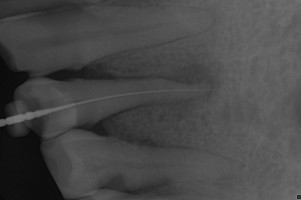Furcation Involvement: (139, 91, 213, 121), (160, 65, 219, 90)
